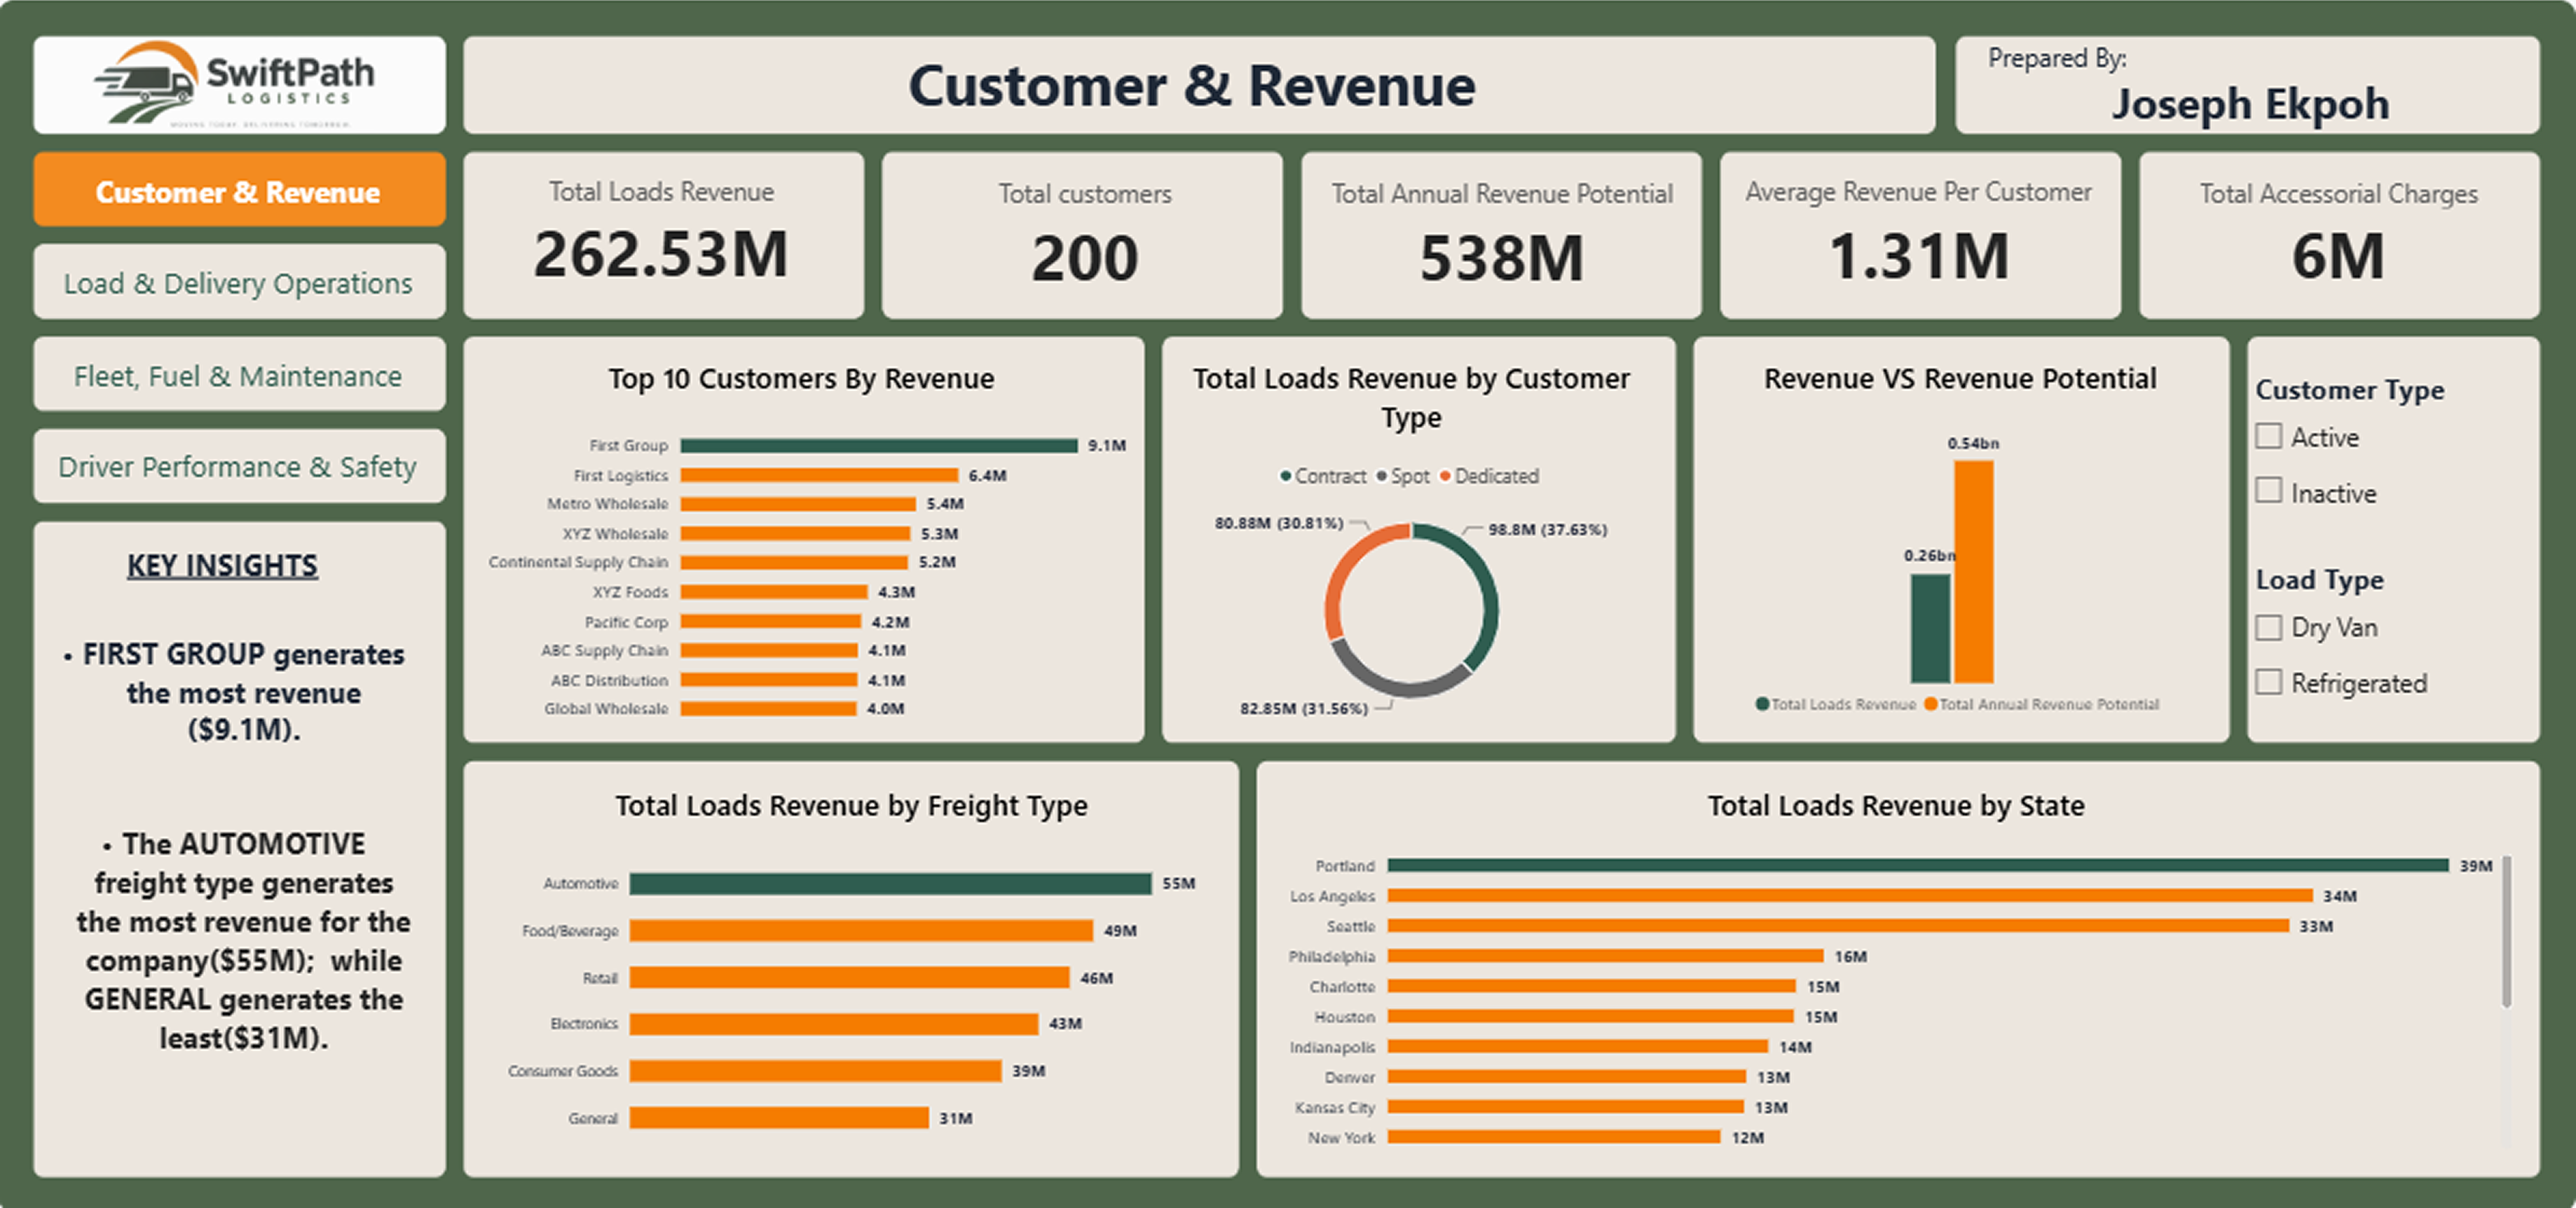

The dashboard page shown, as its layout file describes it:
{"tool":"powerbi","page":{"name":"Customer & Revenue","canvas":[1920,1080],"ordinal":1},"visuals":[{"type":"clusteredBarChart","title":"Top 10 Customers By Revenue","fields":{"Category":["customers.customer_name"],"Y":["loads.Total Loads Revenue"]},"box":[338.4,333.9,517.9,306.6],"z":0},{"type":"clusteredBarChart","title":"Total Loads Revenue by Freight Type","fields":{"Category":["customers.primary_freight_type"],"Y":["loads.Total Loads Revenue"]},"box":[358.9,651.9,554.2,302.1],"z":1000},{"type":"donutChart","title":"Total Loads Revenue by Customer Type","fields":{"Category":["customers.customer_type"],"Y":["loads.Total Loads Revenue"]},"box":[865.4,333.9,377,305],"z":2000},{"type":"clusteredBarChart","title":"Total Loads Revenue by State","fields":{"Category":["routes.destination_city"],"Y":["loads.Total Loads Revenue"]},"box":[940.3,651.9,949.4,302.1],"z":3000},{"type":"cardVisual","fields":{"Data":["loads.Total Loads Revenue"]},"box":[345.2,197.6,300,120.4],"z":4000},{"type":"cardVisual","fields":{"Data":["customers.Total customrs"]},"box":[658.7,197.6,300,125],"z":5000},{"type":"cardVisual","fields":{"Data":["customers.Total Annual Revenue Potential"]},"box":[970,197,300,125],"z":6000},{"type":"cardVisual","fields":{"Data":["customers.Average Revenue Per Customer"]},"box":[1281,197.6,299,123],"z":7000},{"type":"cardVisual","fields":{"Data":["loads.Total Accessorial Charges"]},"box":[1594,194,299.8,129],"z":8000},{"type":"clusteredColumnChart","title":"Revenue VS Revenue Potential","fields":{"Y":["loads.Total Loads Revenue","customers.Total Annual Revenue Potential"]},"box":[1262.8,333.9,399.8,302.1],"z":9000},{"type":"slicer","title":"Customer Type","fields":{"Values":["customers.account_status"]},"box":[1674,358.9,218,111.3],"z":10000},{"type":"slicer","fields":{"Values":["loads.load_type"]},"box":[1674,502,218,113.6],"z":11000},{"type":"actionButton","box":[27,197.6,305,57],"z":12000},{"type":"actionButton","box":[27.3,265.7,305,57],"z":13000},{"type":"actionButton","box":[27.3,333.9,305,57],"z":14000},{"type":"actionButton","box":[27.3,402,304.4,56.8],"z":15000},{"type":"textbox","box":[345.2,115.8,1101.6,65.9],"z":16000},{"type":"textbox","box":[1461,112,433,71],"z":17000},{"type":"textbox","box":[27.3,470.2,281.6,490.6],"z":18000}]}

Visuals, with their boxes on the page's 1920x1080 design canvas (x1, y1, x2, y2). These are canvas units, not pixel positions in the 2576x1208 screenshot, which may show the page scaled, cropped or inside an application window:
"Top 10 Customers By Revenue" clusteredBarChart: <box>338,334,856,640</box>
"Total Loads Revenue by Freight Type" clusteredBarChart: <box>359,652,913,954</box>
"Total Loads Revenue by Customer Type" donutChart: <box>865,334,1242,639</box>
"Total Loads Revenue by State" clusteredBarChart: <box>940,652,1890,954</box>
cardVisual - loads.Total Loads Revenue: <box>345,198,645,318</box>
cardVisual - customers.Total customrs: <box>659,198,959,323</box>
cardVisual - customers.Total Annual Revenue Potential: <box>970,197,1270,322</box>
cardVisual - customers.Average Revenue Per Customer: <box>1281,198,1580,321</box>
cardVisual - loads.Total Accessorial Charges: <box>1594,194,1894,323</box>
"Revenue VS Revenue Potential" clusteredColumnChart: <box>1263,334,1663,636</box>
"Customer Type" slicer: <box>1674,359,1892,470</box>
slicer - loads.load_type: <box>1674,502,1892,616</box>
actionButton: <box>27,198,332,255</box>
actionButton: <box>27,266,332,323</box>
actionButton: <box>27,334,332,391</box>
actionButton: <box>27,402,332,459</box>
textbox: <box>345,116,1447,182</box>
textbox: <box>1461,112,1894,183</box>
textbox: <box>27,470,309,961</box>
